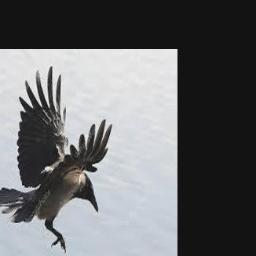Crow: (0, 65, 112, 253)
